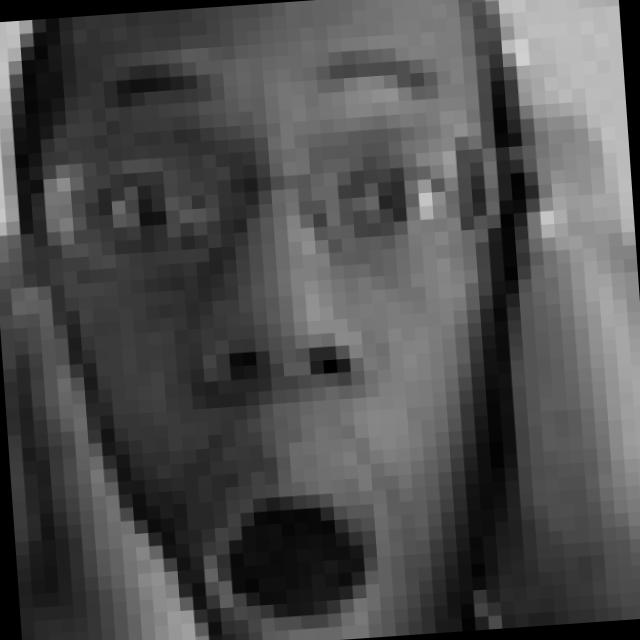surprise: (95, 37, 508, 640)
